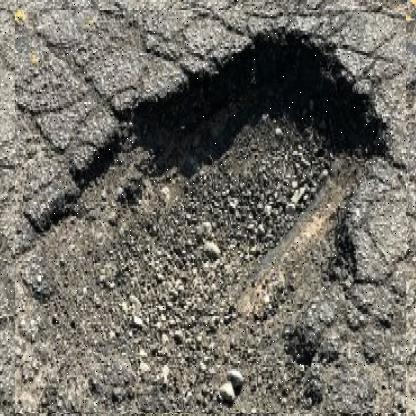pothole: (14, 10, 406, 414)
